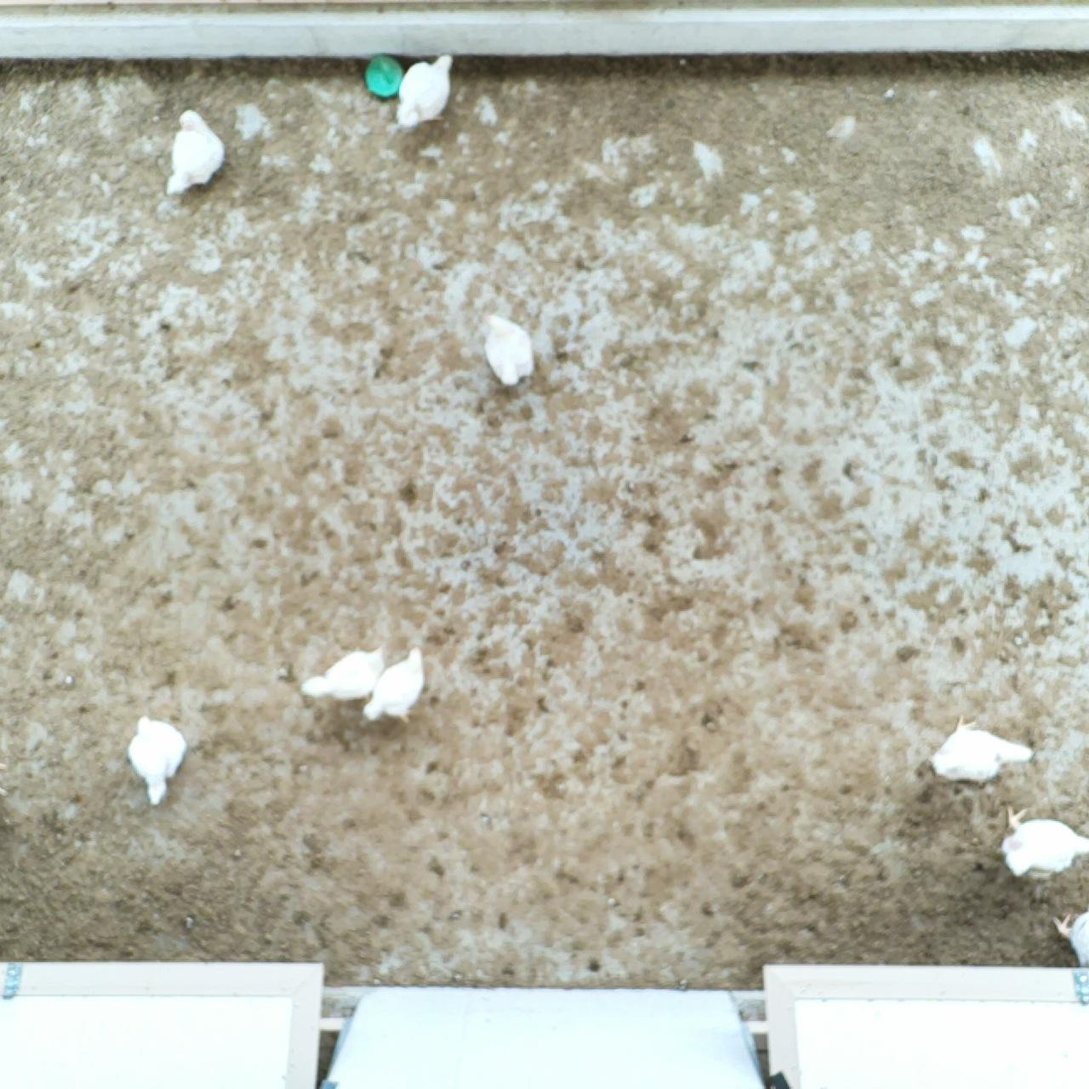chicken: (927, 714, 1039, 787), (994, 801, 1089, 880), (121, 711, 193, 808), (161, 100, 229, 198), (298, 644, 390, 709), (359, 642, 429, 725), (391, 47, 459, 130), (480, 311, 545, 396), (1052, 904, 1089, 972)
